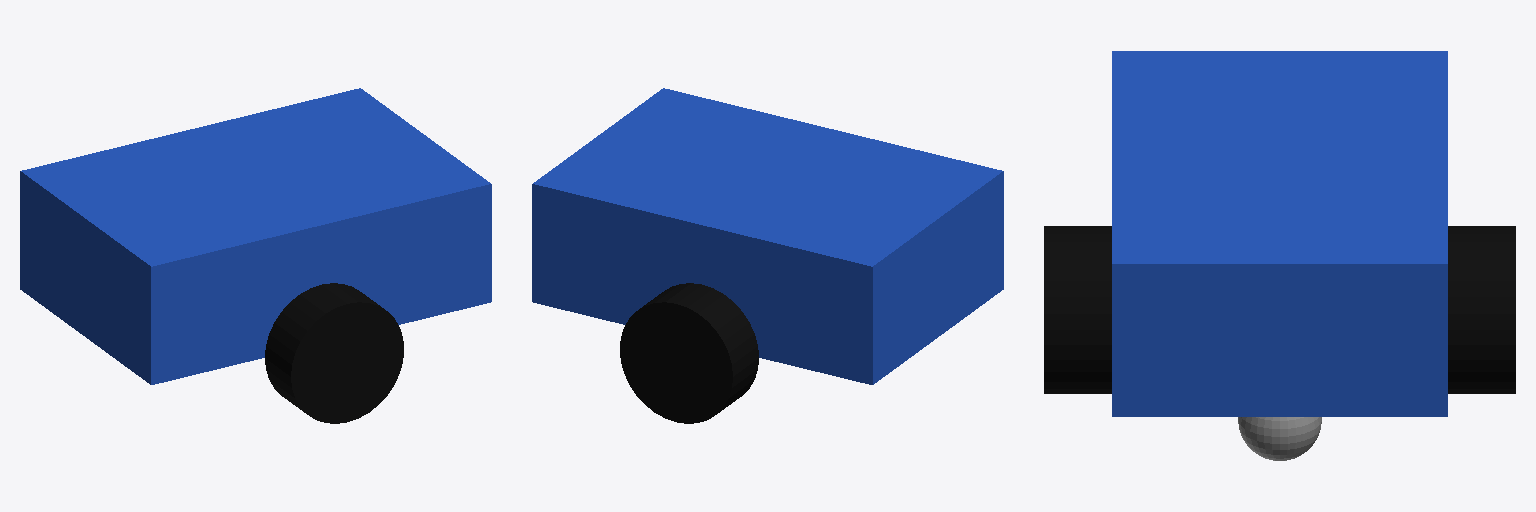
URDF robot description (ch13_mobile_robot):
<?xml version="1.0"?>
<robot name="ch13_mobile_robot">
  <material name="chassis_color">
    <color rgba="0.2 0.4 0.8 1.0"/>
  </material>
  <material name="wheel_color">
    <color rgba="0.1 0.1 0.1 1.0"/>
  </material>
  <material name="caster_color">
    <color rgba="0.6 0.6 0.6 1.0"/>
  </material>

  <link name="base_link">
    <visual>
      <origin xyz="0 0 0.05" rpy="0 0 0"/>
      <geometry>
        <box size="0.3 0.2 0.1"/>
      </geometry>
      <material name="chassis_color"/>
    </visual>
  </link>

  <link name="left_wheel_link">
    <visual>
      <origin xyz="0 0 0" rpy="1.570796 0 0"/>
      <geometry>
        <cylinder radius="0.05" length="0.04"/>
      </geometry>
      <material name="wheel_color"/>
    </visual>
  </link>

  <joint name="left_wheel_joint" type="continuous">
    <parent link="base_link"/>
    <child link="left_wheel_link"/>
    <origin xyz="0 0.12 0" rpy="0 0 0"/>
    <axis xyz="0 1 0"/>
  </joint>

  <link name="right_wheel_link">
    <visual>
      <origin xyz="0 0 0" rpy="1.570796 0 0"/>
      <geometry>
        <cylinder radius="0.05" length="0.04"/>
      </geometry>
      <material name="wheel_color"/>
    </visual>
  </link>

  <joint name="right_wheel_joint" type="continuous">
    <parent link="base_link"/>
    <child link="right_wheel_link"/>
    <origin xyz="0 -0.12 0" rpy="0 0 0"/>
    <axis xyz="0 1 0"/>
  </joint>

  <link name="caster_link">
    <visual>
      <geometry>
        <sphere radius="0.025"/>
      </geometry>
      <material name="caster_color"/>
    </visual>
  </link>

  <joint name="caster_joint" type="fixed">
    <parent link="base_link"/>
    <child link="caster_link"/>
    <origin xyz="0.1 0 -0.025" rpy="0 0 0"/>
  </joint>
</robot>

--- Facts derived from the render (not from the file) ---
Views: 3 orthographic renders of the robot side by side, from view 1: azimuth 30°, elevation 25°; view 2: azimuth 150°, elevation 25°; view 3: azimuth 270°, elevation 25°.
Robot: ch13_mobile_robot — 4 links, 3 joints (2 continuous, 1 fixed); root link base_link; default pose: all joints at 0.
Links seen in each view (by area): view 1: base_link, right_wheel_link; view 2: base_link, left_wheel_link; view 3: base_link, left_wheel_link, right_wheel_link, caster_link.
Link boxes in pixels (left/top/right/bottom): base_link: left=20, top=88, right=491, bottom=384; right_wheel_link: left=265, top=283, right=403, bottom=423; base_link: left=532, top=88, right=1003, bottom=384; left_wheel_link: left=620, top=283, right=758, bottom=423; base_link: left=1112, top=51, right=1447, bottom=416; left_wheel_link: left=1448, top=226, right=1515, bottom=393; right_wheel_link: left=1044, top=226, right=1111, bottom=393; caster_link: left=1238, top=417, right=1321, bottom=460.
Size in the robot's own frame: 0.3 by 0.28 by 0.15 metres.
Geometry: primitives only (box / cylinder / sphere), no mesh files.
